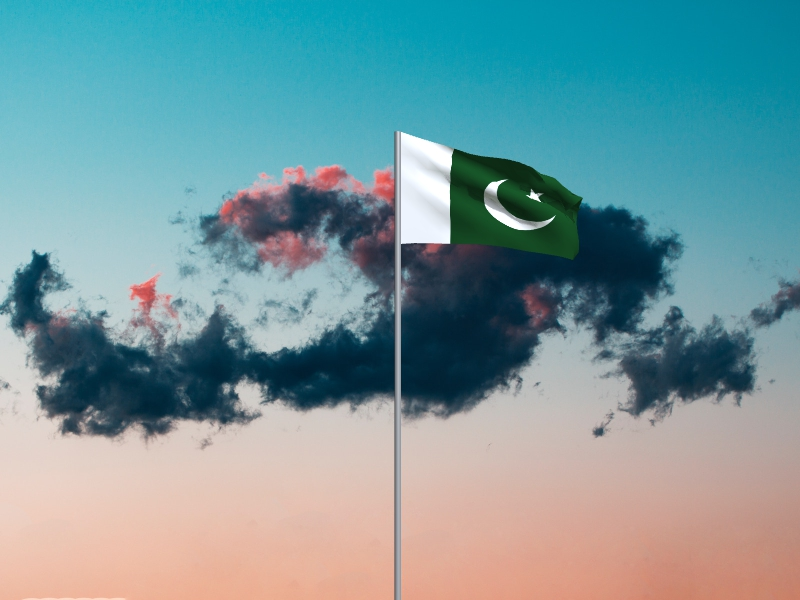pk: (402, 133, 584, 262)
